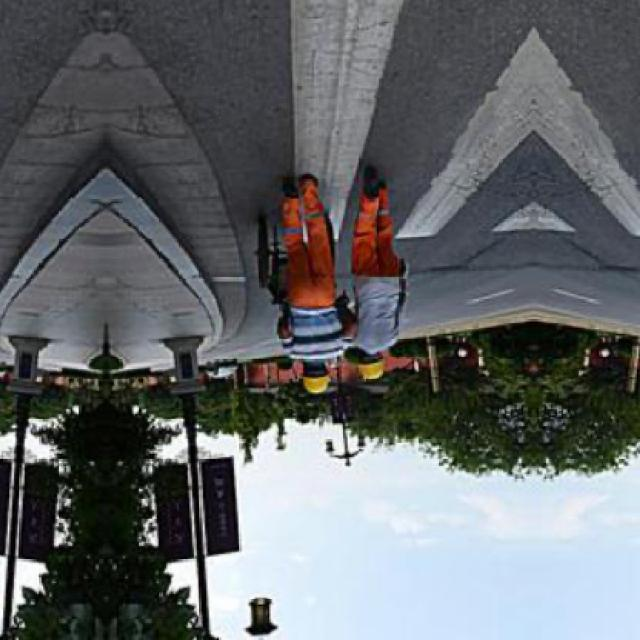con casco: (336, 324, 399, 393), (294, 350, 334, 404)
